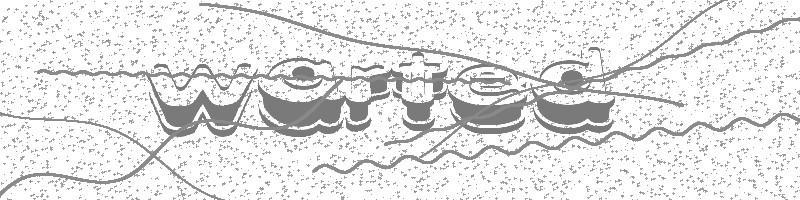a: (258, 53, 346, 136)
d: (528, 44, 623, 136)
e: (449, 60, 530, 135)
r: (343, 57, 391, 134)
t: (394, 49, 450, 132)
w: (143, 57, 259, 137)
